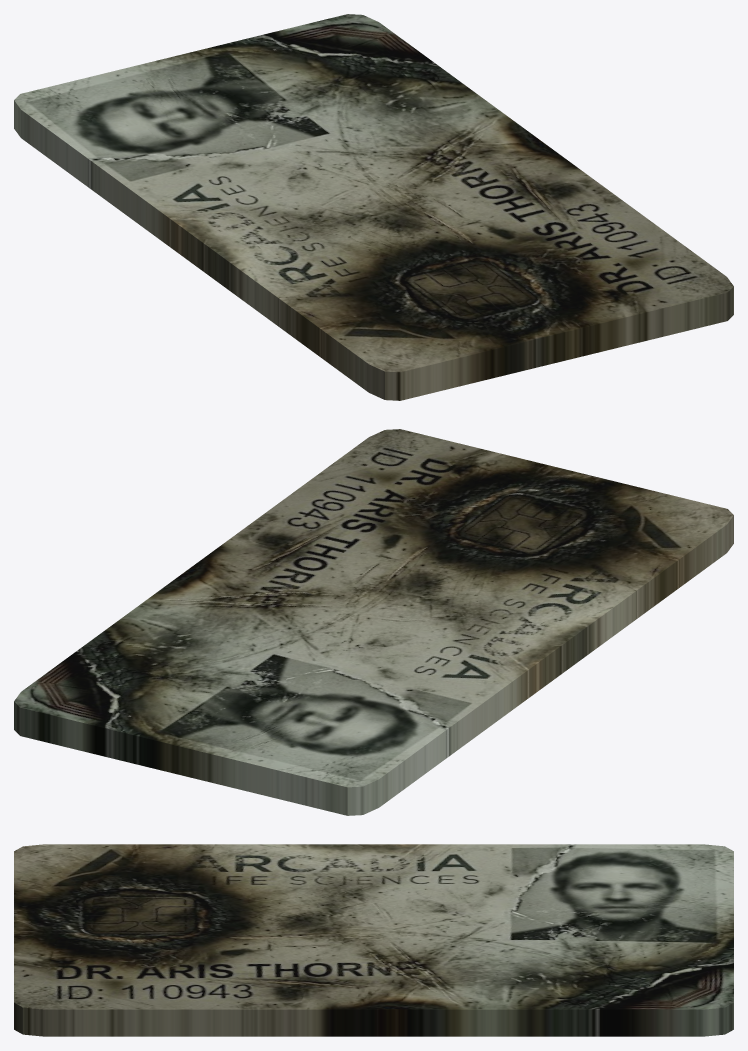
File: card.fbx
The picture shows the model from 3 angles, top to bottom: view 1: azimuth 30°, elevation 25°; view 2: azimuth 150°, elevation 25°; view 3: azimuth 270°, elevation 25°; orthographic projection. The views are drawn at different scales.
Parts seen in each view (by area): view 1: card; view 2: card; view 3: card.
Boxes of the visible parts, x1,y1,x2,y2 form: card: (14,14,733,400); card: (14,429,733,815); card: (14,844,733,1036).
Size of the model in its own units: 25.37 by 1.93 by 46.67.
Materials: 1 (1 with a texture image).
